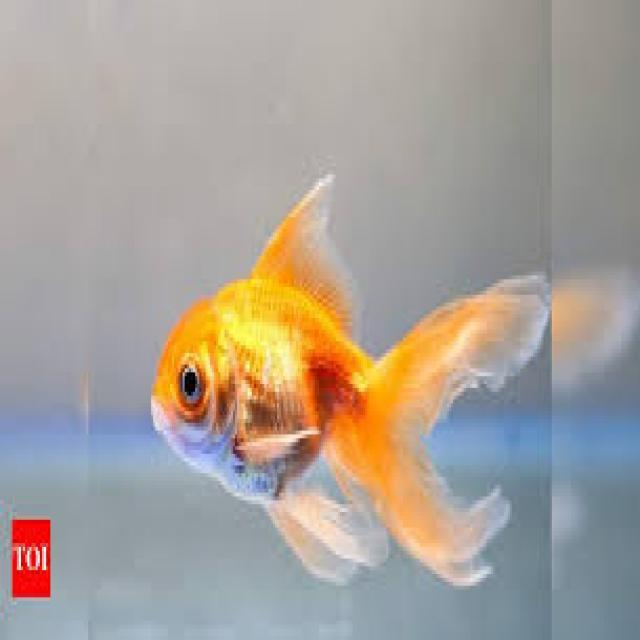goldfish: (147, 178, 536, 606)
